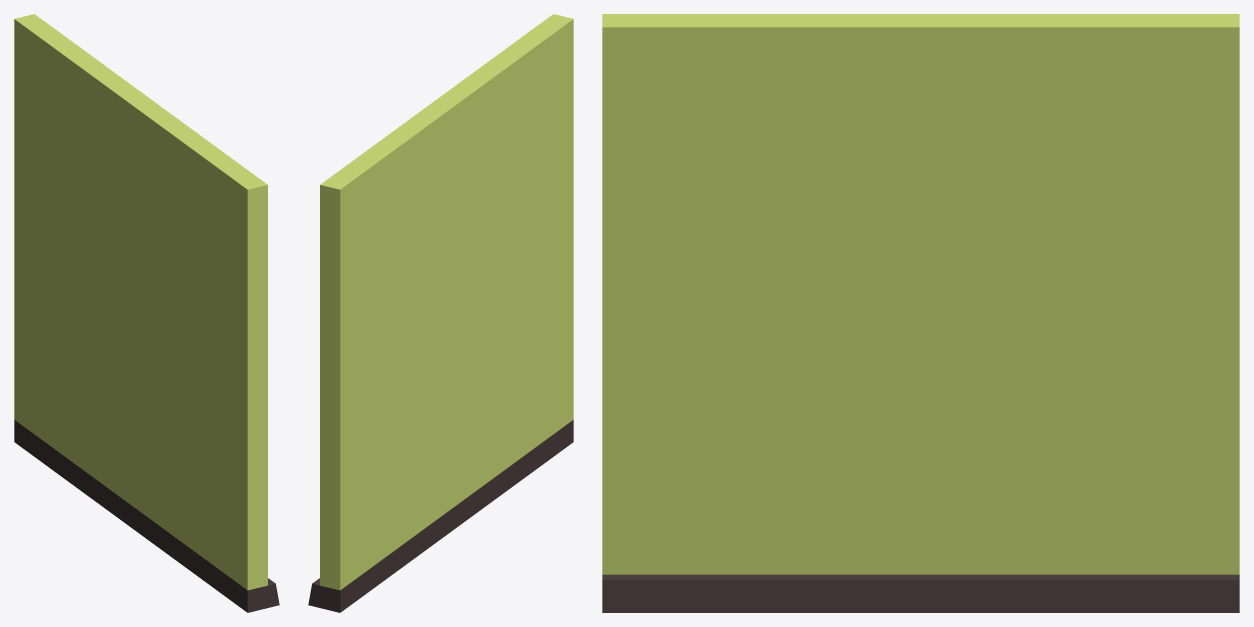
The model's file is SM_Wall_Basic.fbx.
3 views of the same model, side by side, from view 1: azimuth 30°, elevation 25°; view 2: azimuth 150°, elevation 25°; view 3: azimuth 270°, elevation 25° (orthographic). The views are drawn at different scales.
Parts seen in each view (by area): view 1: Cube.001; view 2: Cube.001; view 3: Cube.001.
Part boxes in pixels (left/top/right/bottom): Cube.001: left=14, top=14, right=279, bottom=612; Cube.001: left=308, top=14, right=573, bottom=612; Cube.001: left=602, top=14, right=1239, bottom=612.
Size of the model in its own units: 31.57 by 400 by 400.
